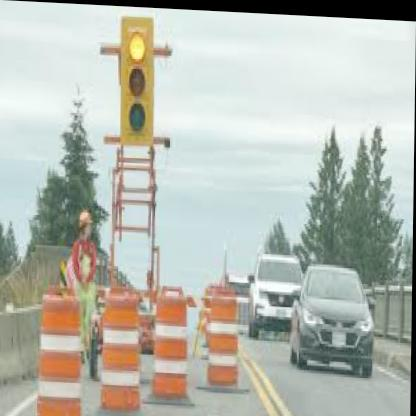obstacle: (37, 294, 85, 416), (98, 294, 141, 412), (203, 283, 242, 386), (154, 289, 185, 399)
